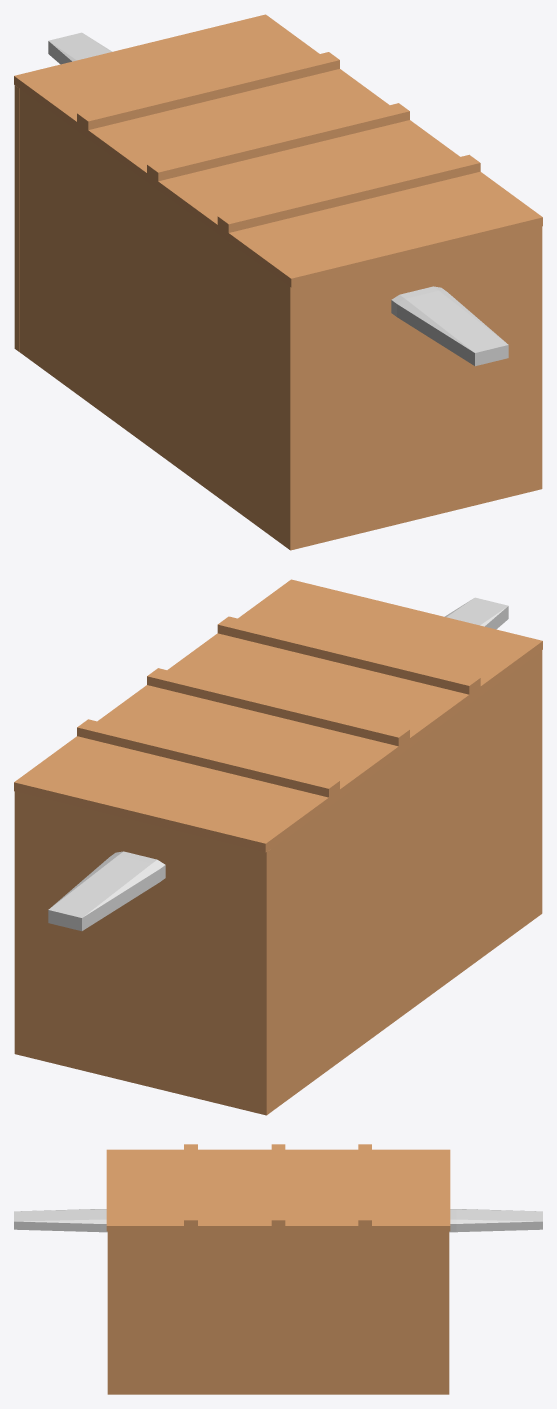
File: BoxSmall.fbx
3 renders of one model, top to bottom at view 1: azimuth 30°, elevation 25°; view 2: azimuth 150°, elevation 25°; view 3: azimuth 270°, elevation 25°, orthographic. The views are drawn at different scales.
Visible parts, largest first — view 1: Cube.001, Cube.003, Cube; view 2: Cube.001, Cube.003, Cube; view 3: Cube.001, Cube.003, Cube.
Part boxes in pixels (<box>): Cube.001: <box>14,85,542,550</box>; Cube.003: <box>14,14,542,287</box>; Cube: <box>48,32,508,366</box>; Cube.001: <box>14,650,542,1115</box>; Cube.003: <box>14,579,542,852</box>; Cube: <box>48,597,508,931</box>; Cube.001: <box>107,1231,449,1394</box>; Cube.003: <box>106,1144,450,1231</box>; Cube: <box>14,1209,542,1232</box>.
Size of the model in its own units: 515 by 549 by 1510.
